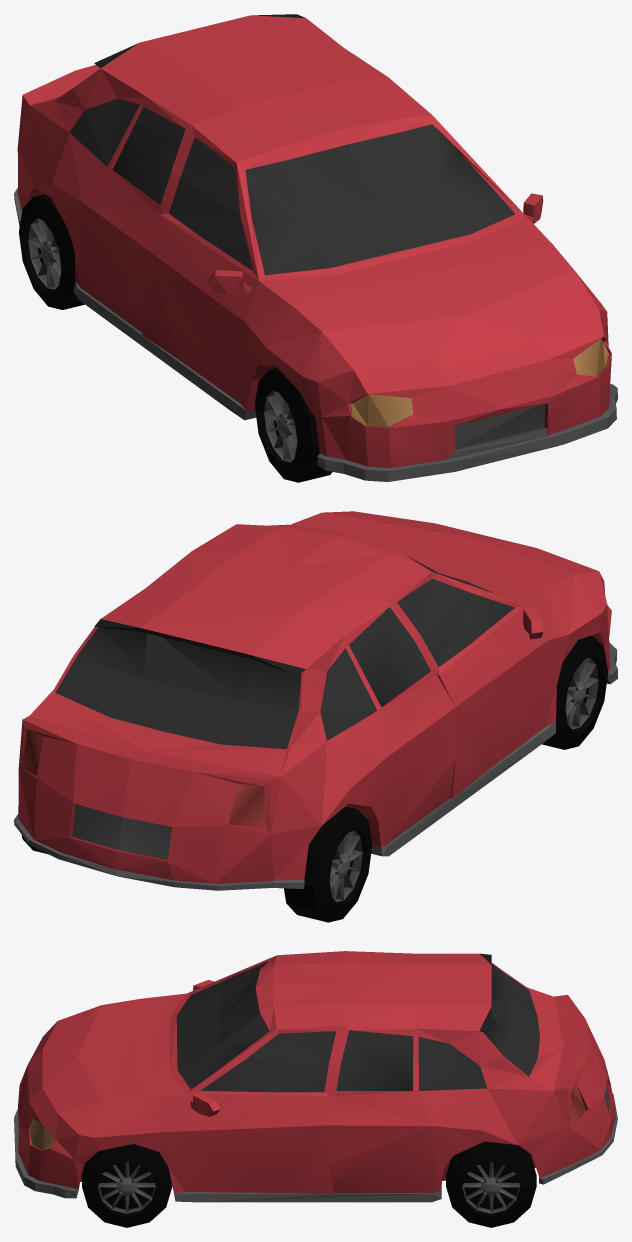
The model's file is car-2.glb.
The picture shows the model from 3 angles, top to bottom: view 1: azimuth 30°, elevation 25°; view 2: azimuth 150°, elevation 25°; view 3: azimuth 270°, elevation 25°; orthographic projection. The views are drawn at different scales.
Visible parts, largest first — view 1: car-2; view 2: car-2; view 3: car-2.
Boxes of the visible parts, x1,y1,x2,y2 form: car-2: (14, 14, 617, 482); car-2: (14, 511, 617, 922); car-2: (14, 951, 617, 1227).
Size of the model in its own units: 2.07 by 1.45 by 4.19.
